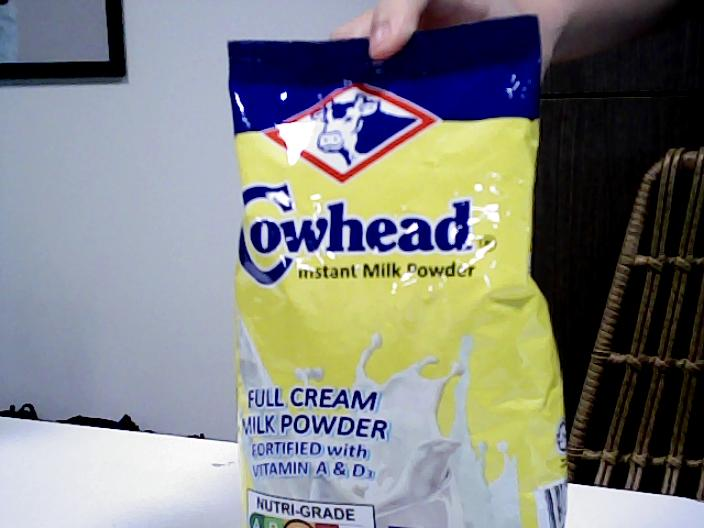Adult_Milk_500-599g_Halal_NonHealthy: (227, 36, 570, 528)
